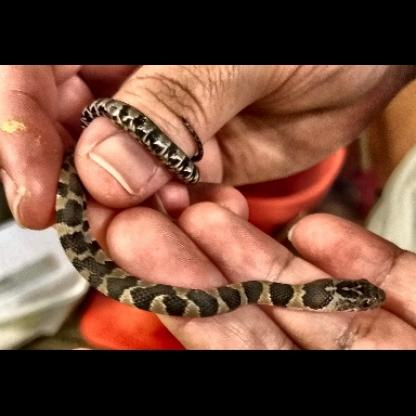Snake: (53, 97, 388, 321)
